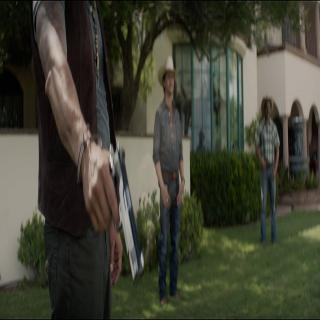gun: (84, 138, 144, 290)
